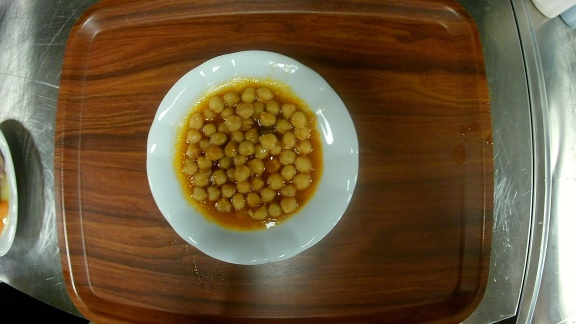sulunohut: (146, 51, 361, 264)
